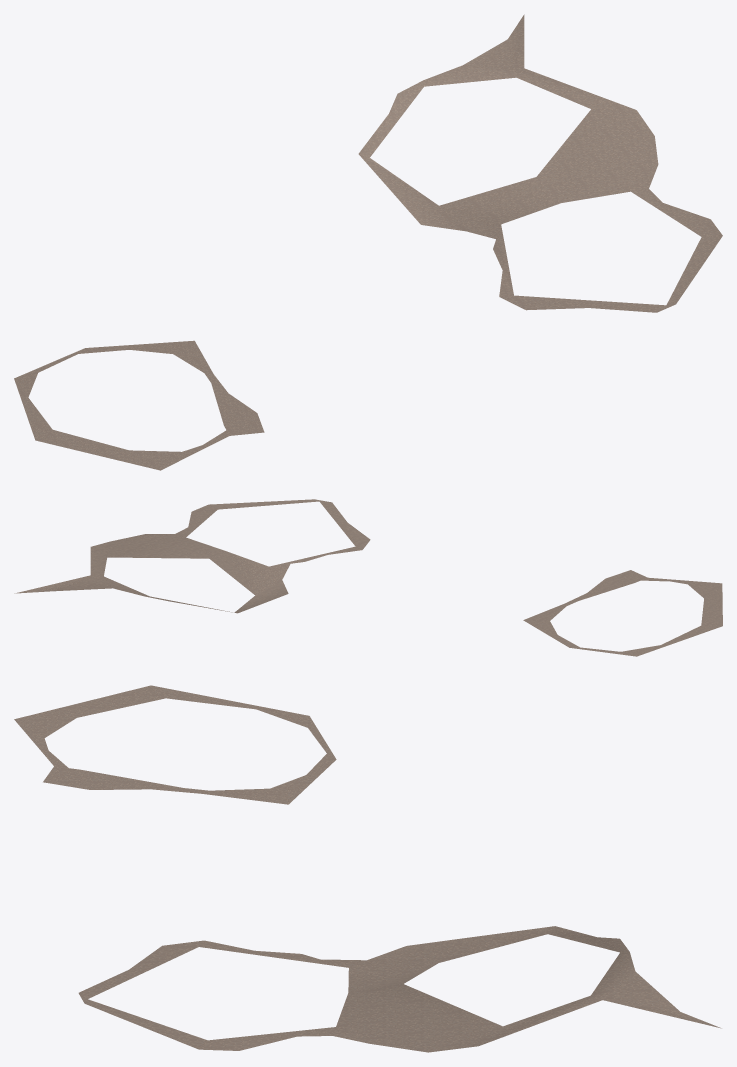
The model's file is kd_stage_135fe0_0_15.glb.
The picture shows the model from 3 angles, top to bottom: view 1: azimuth 30°, elevation 25°; view 2: azimuth 150°, elevation 25°; view 3: azimuth 270°, elevation 25°; orthographic projection. The views are drawn at different scales.
Visible parts, largest first — view 1: kd_stage_135fe0_0_15; view 2: kd_stage_135fe0_0_15; view 3: kd_stage_135fe0_0_15.
Boxes of the visible parts, bbox=[...] form: kd_stage_135fe0_0_15: bbox=[14, 14, 722, 470]; kd_stage_135fe0_0_15: bbox=[14, 499, 722, 656]; kd_stage_135fe0_0_15: bbox=[14, 685, 721, 1052].
Size of the model in its own units: 72.47 by 5.49 by 53.82.
1 material, 1 textured.
